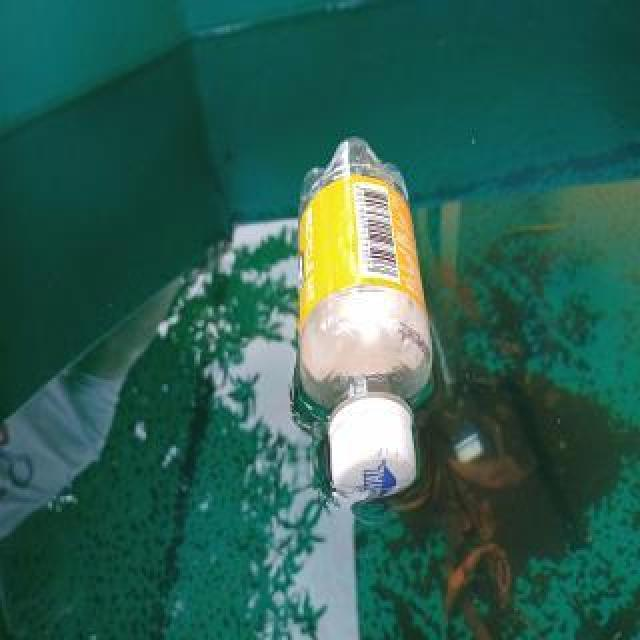bottle: (295, 132, 435, 498)
